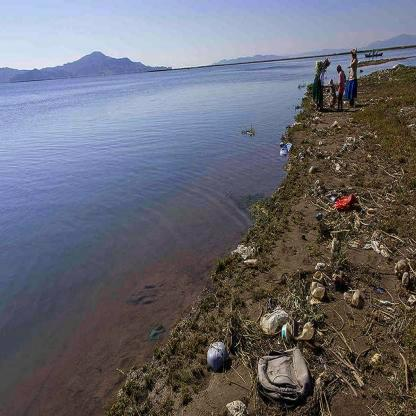Plastic: (310, 272, 326, 298), (296, 323, 314, 339), (242, 257, 258, 271), (394, 256, 404, 277), (351, 290, 362, 307), (282, 324, 291, 340), (403, 276, 411, 291), (313, 211, 324, 220)
Trash: (352, 236, 390, 257), (261, 306, 284, 334), (207, 344, 226, 366), (224, 399, 247, 416), (333, 197, 357, 213), (234, 241, 257, 257)
